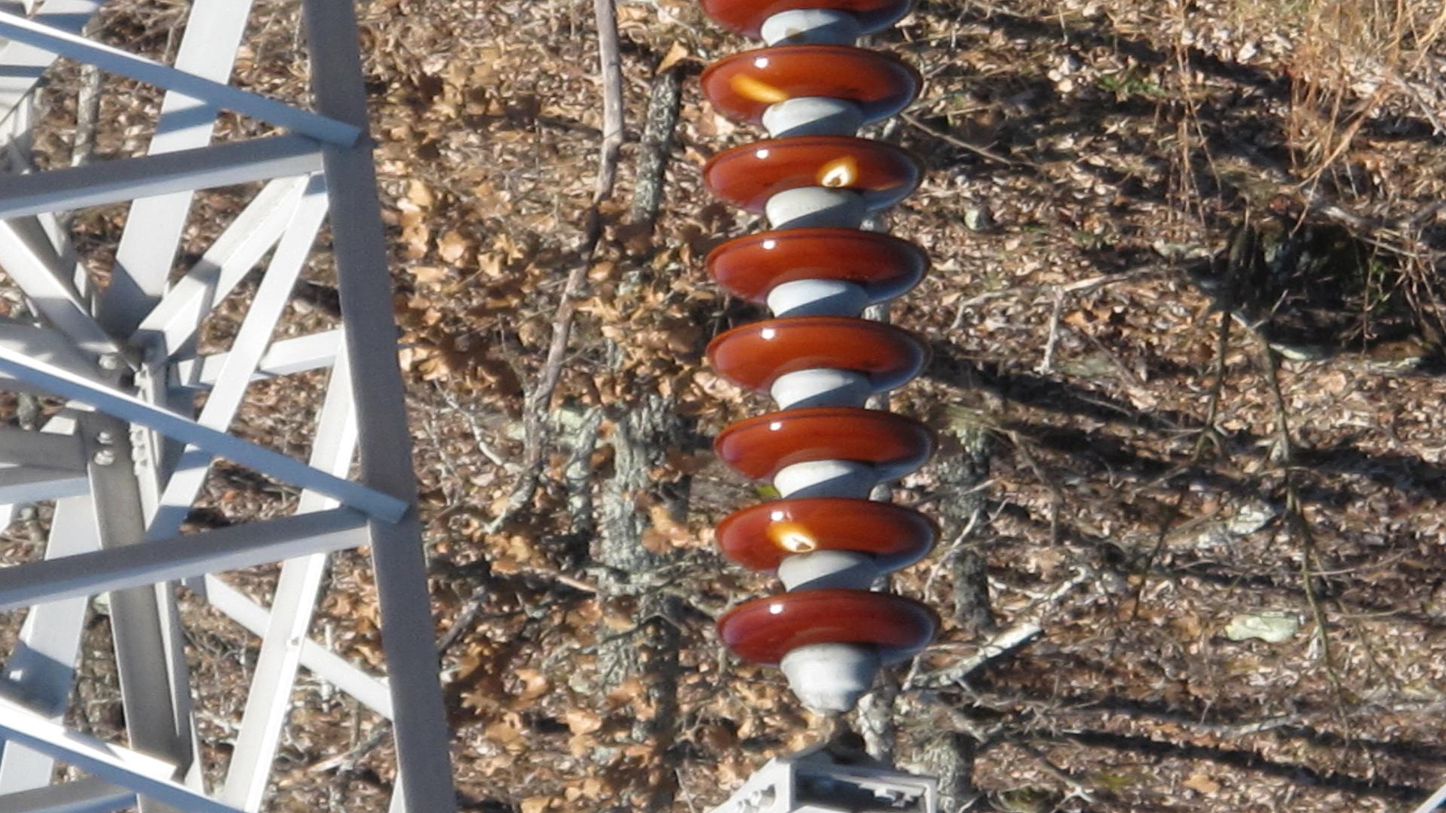insulator: (691, 1, 943, 665)
insulator_flashover: (725, 69, 790, 106), (766, 519, 819, 556), (819, 154, 859, 190)
